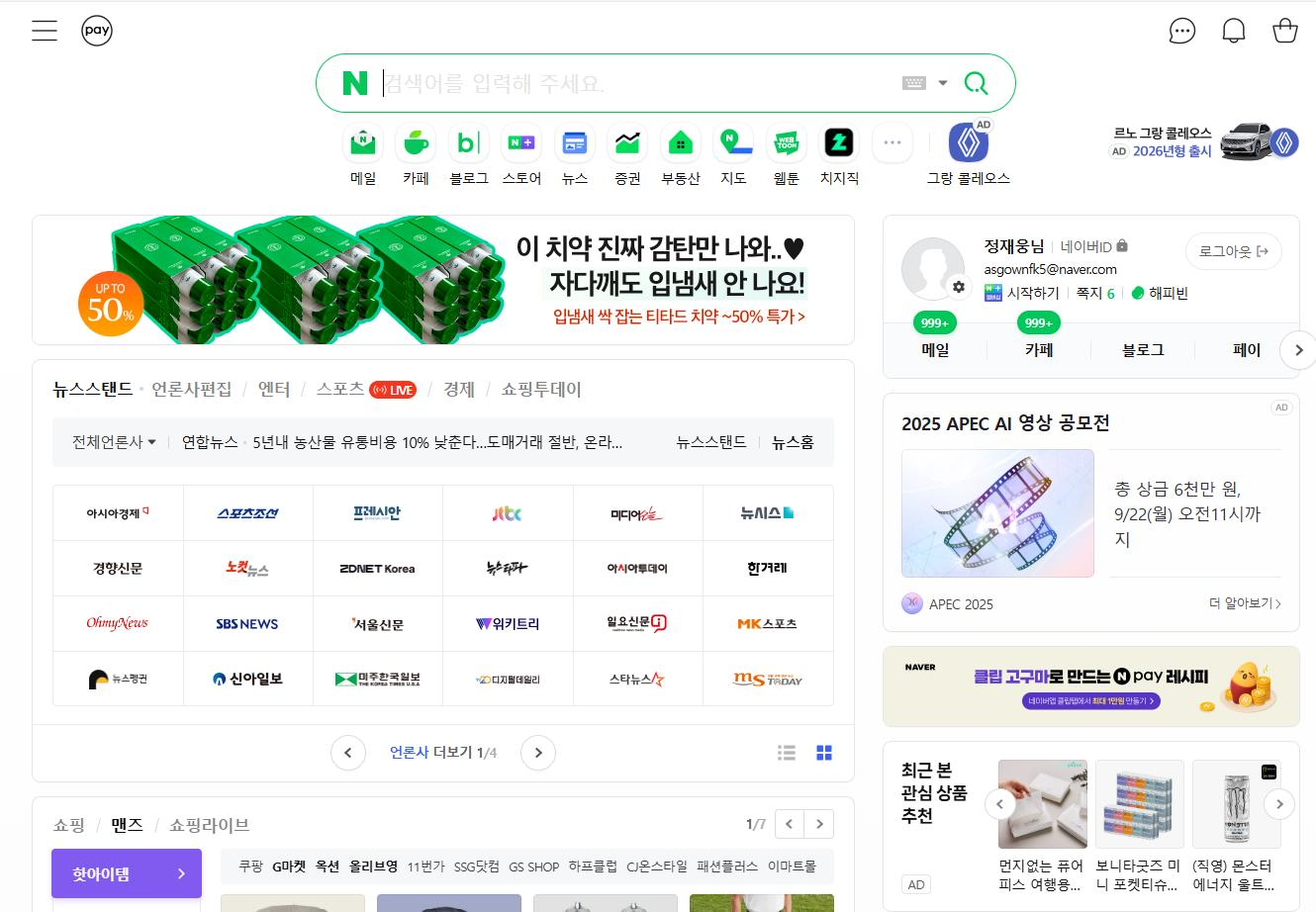button: (56, 853, 207, 891), (335, 501, 433, 532), (306, 377, 418, 404), (344, 550, 432, 584), (199, 610, 291, 642), (548, 127, 597, 187), (455, 617, 552, 647), (48, 368, 136, 401), (465, 498, 545, 533), (599, 612, 679, 647), (330, 665, 437, 691), (213, 492, 288, 529), (999, 323, 1072, 361), (208, 545, 272, 587), (208, 663, 302, 691), (895, 326, 968, 362), (814, 127, 856, 189), (79, 500, 172, 528), (320, 611, 413, 638), (454, 129, 500, 183), (82, 654, 157, 687), (768, 126, 809, 184), (589, 498, 680, 524), (669, 137, 711, 192), (492, 378, 589, 401), (729, 125, 764, 187), (472, 559, 553, 585), (613, 132, 649, 190), (730, 611, 804, 639), (610, 556, 683, 584), (69, 551, 146, 577), (659, 429, 736, 455), (731, 668, 824, 689), (1200, 231, 1267, 260), (616, 669, 690, 695), (1098, 338, 1169, 365), (87, 611, 155, 639), (348, 131, 383, 185), (24, 19, 68, 61), (1165, 7, 1206, 52), (867, 126, 912, 167), (164, 814, 259, 833), (736, 561, 814, 584), (402, 131, 434, 187), (726, 495, 788, 523), (461, 666, 553, 684), (157, 376, 231, 398), (512, 132, 539, 188), (754, 434, 831, 453), (455, 852, 513, 875), (110, 805, 151, 837), (1127, 278, 1185, 298), (1206, 339, 1259, 360), (428, 381, 480, 402), (1264, 7, 1296, 40), (773, 812, 815, 837), (998, 287, 1062, 303), (333, 736, 369, 762), (75, 5, 109, 31), (251, 381, 293, 402), (761, 863, 834, 875), (1221, 6, 1244, 43), (1075, 283, 1116, 303), (356, 854, 407, 870), (574, 859, 628, 874), (533, 738, 566, 762), (693, 856, 747, 870), (804, 738, 835, 762), (768, 748, 798, 772), (517, 861, 562, 877), (228, 857, 266, 875), (315, 857, 351, 875), (631, 861, 694, 870), (411, 861, 440, 879), (275, 858, 307, 872), (52, 817, 85, 830), (971, 72, 988, 94)
input_field: (322, 61, 940, 104)
popup: (35, 205, 863, 349), (888, 403, 1306, 629), (891, 748, 1304, 910), (1080, 116, 1311, 166)
